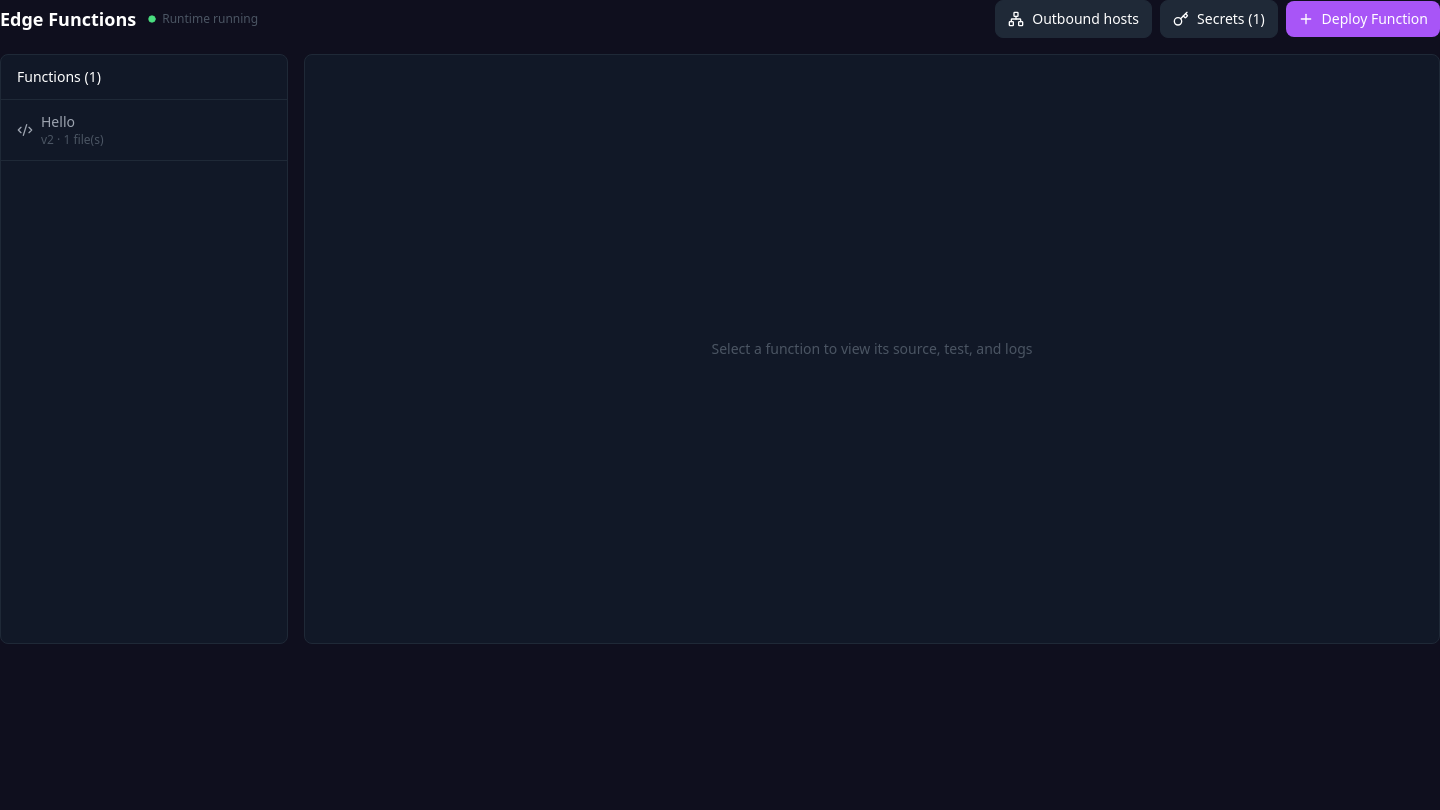
it: EdgeFunctionsPage › deploy form › a refused deploy shows the server reason, not the status code
Click the button with test id "create-fn-btn" at (1363, 19), box top-left (1286, 1), bottom-right (1439, 37)
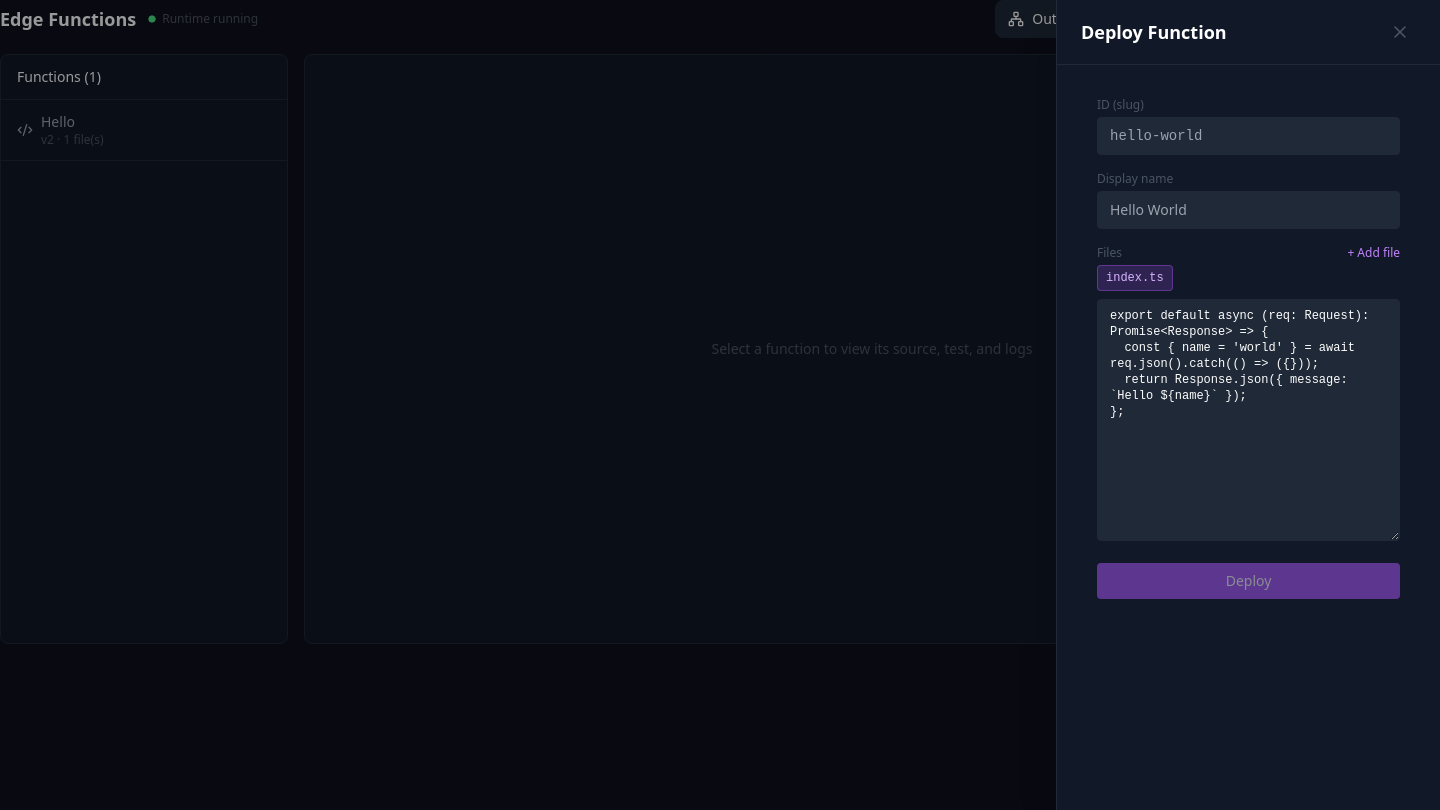
Type "hello" into the field with test id "fn-id-input" at (1248, 136), box top-left (1097, 117), bottom-right (1400, 155)
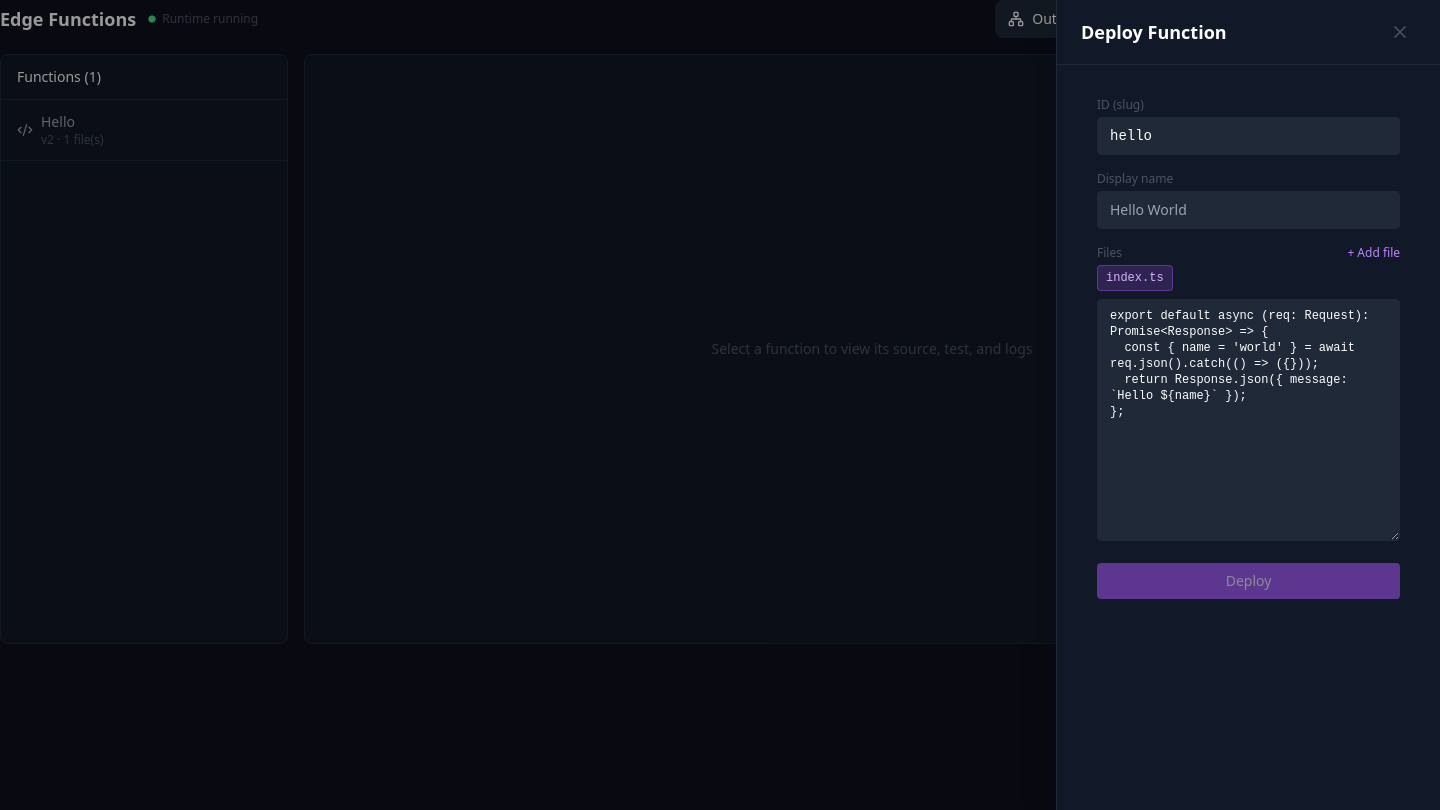
Type "Hello" into the field labelled "Display name" at (1248, 210), box top-left (1097, 191), bottom-right (1400, 229)
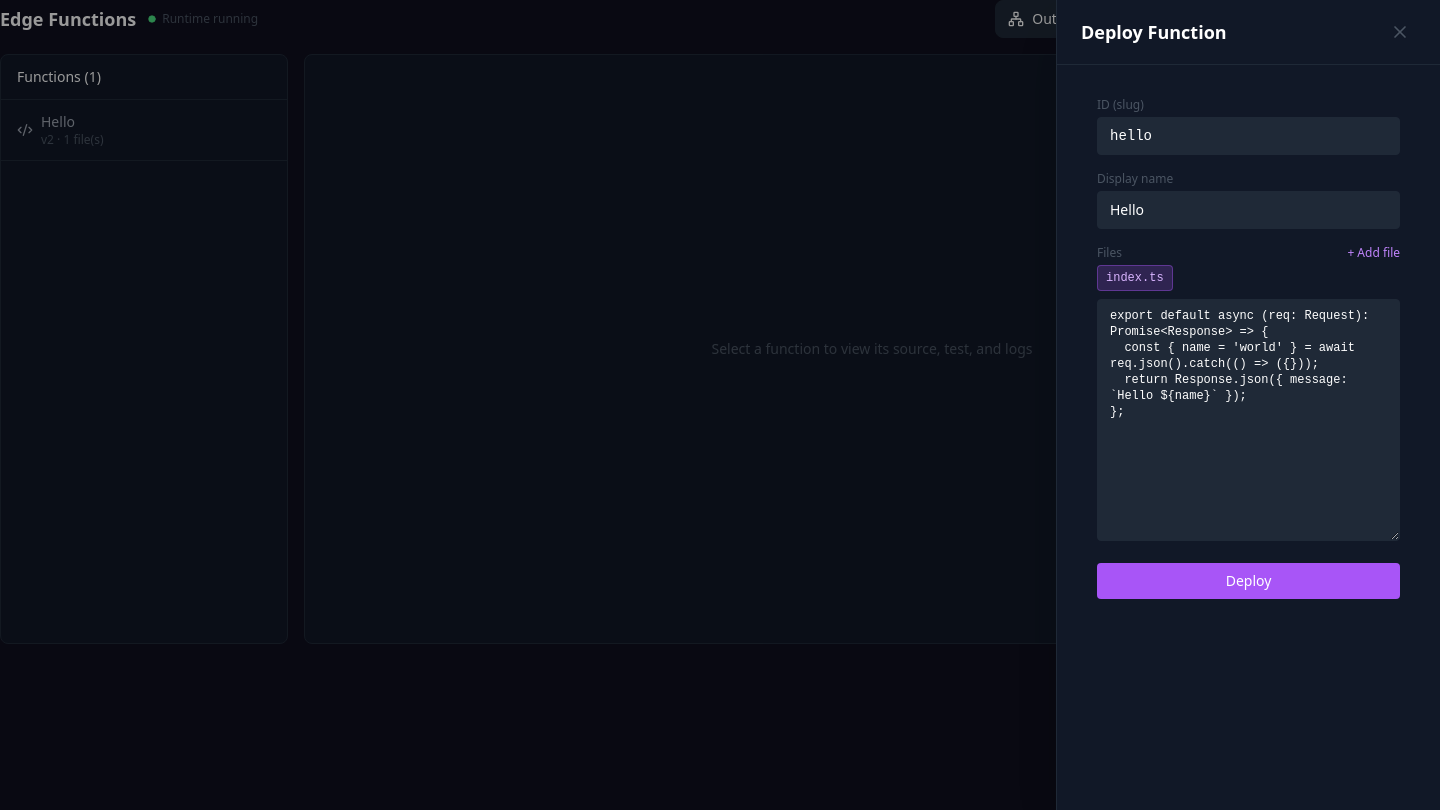
Click the button with test id "submit-fn-btn" at (1248, 581), box top-left (1097, 563), bottom-right (1400, 599)
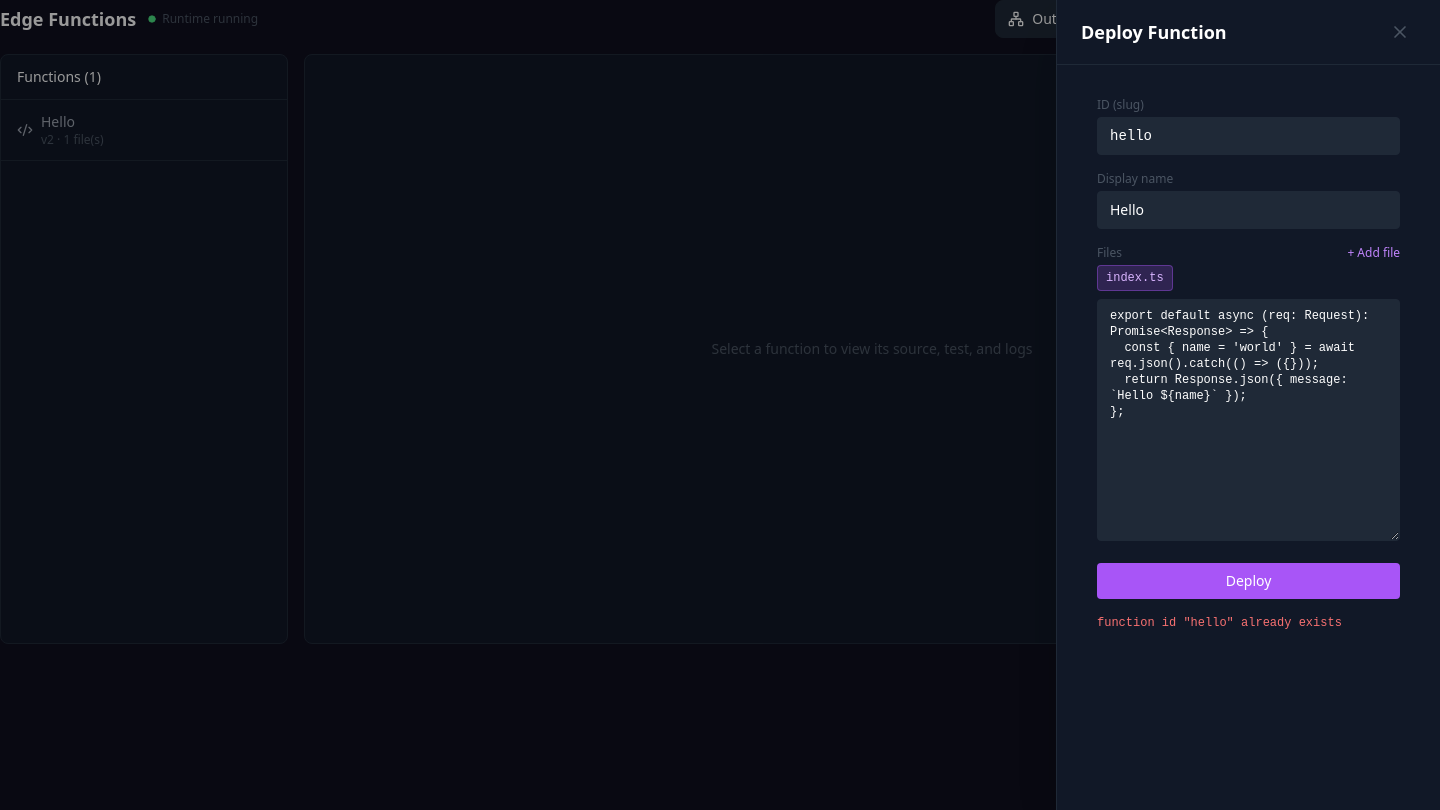
Now the text "function id \"hello\" already exists" is shown, box top-left (1097, 616), bottom-right (1342, 630)
